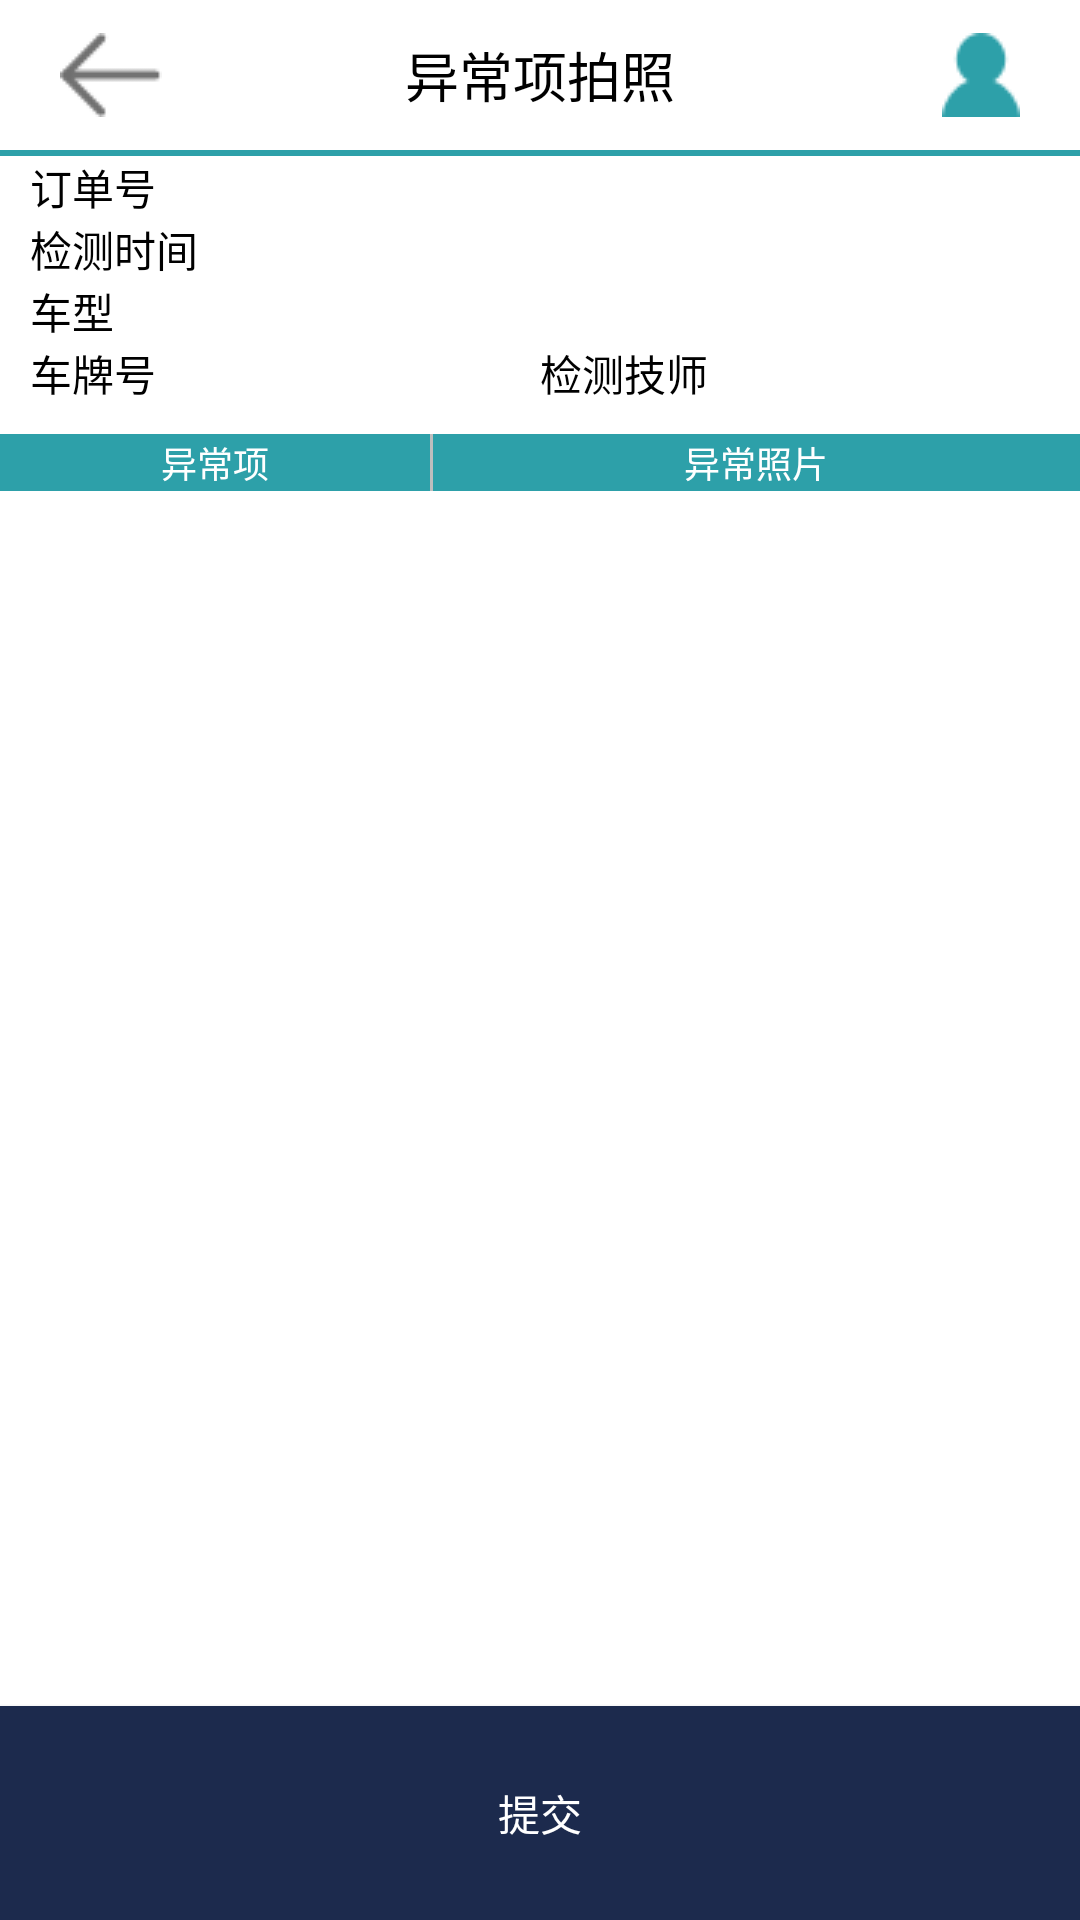

Screen size 1080 × 1920. Icon name, then its center in pixels as (x,y):
fanhui: (110,75)
